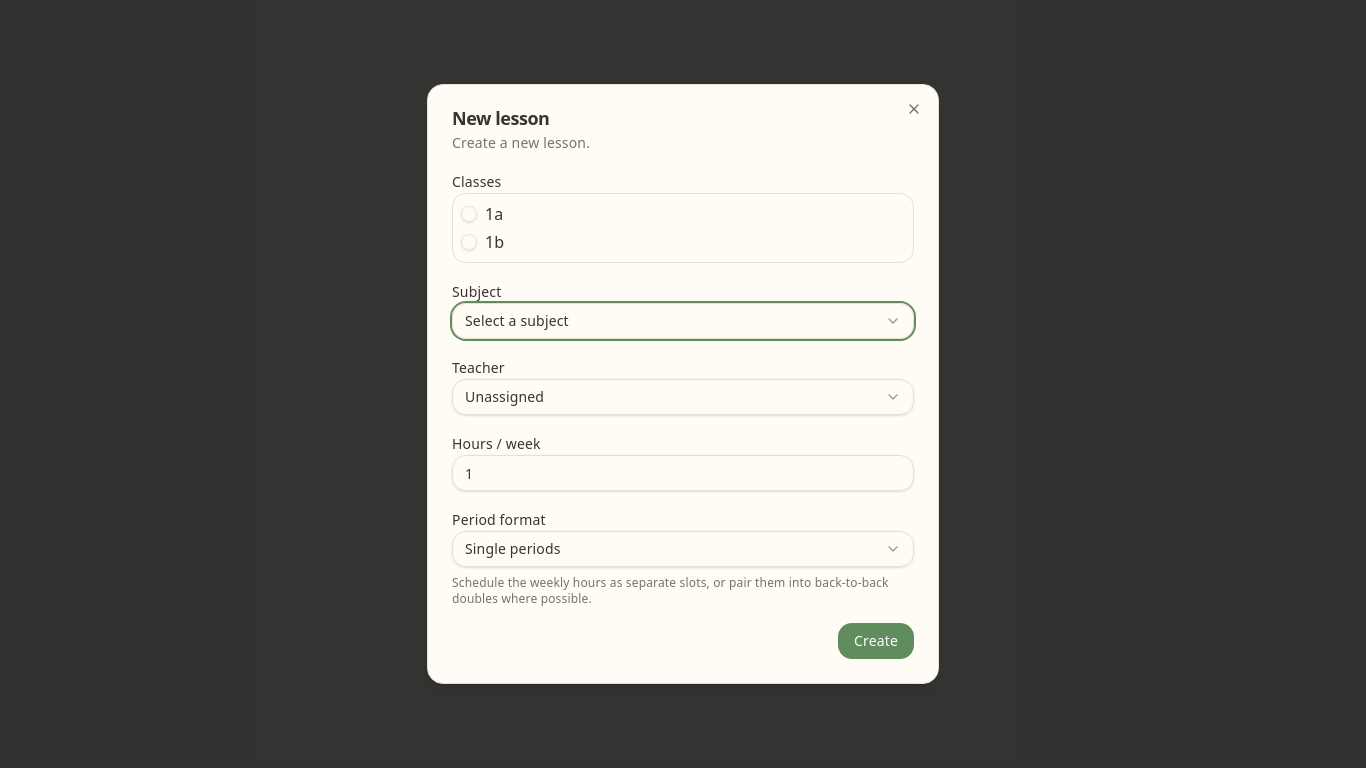
Test: LessonFormDialog multi-class selection › rejects submit when no class selected
The width and height of the screenshot is (1366, 768).
Check: the checkbox named "1a" is shown, box x1=461 y1=206 x2=477 y2=222
Click the button "Create": click(876, 641) x1=838 y1=623 x2=914 y2=659
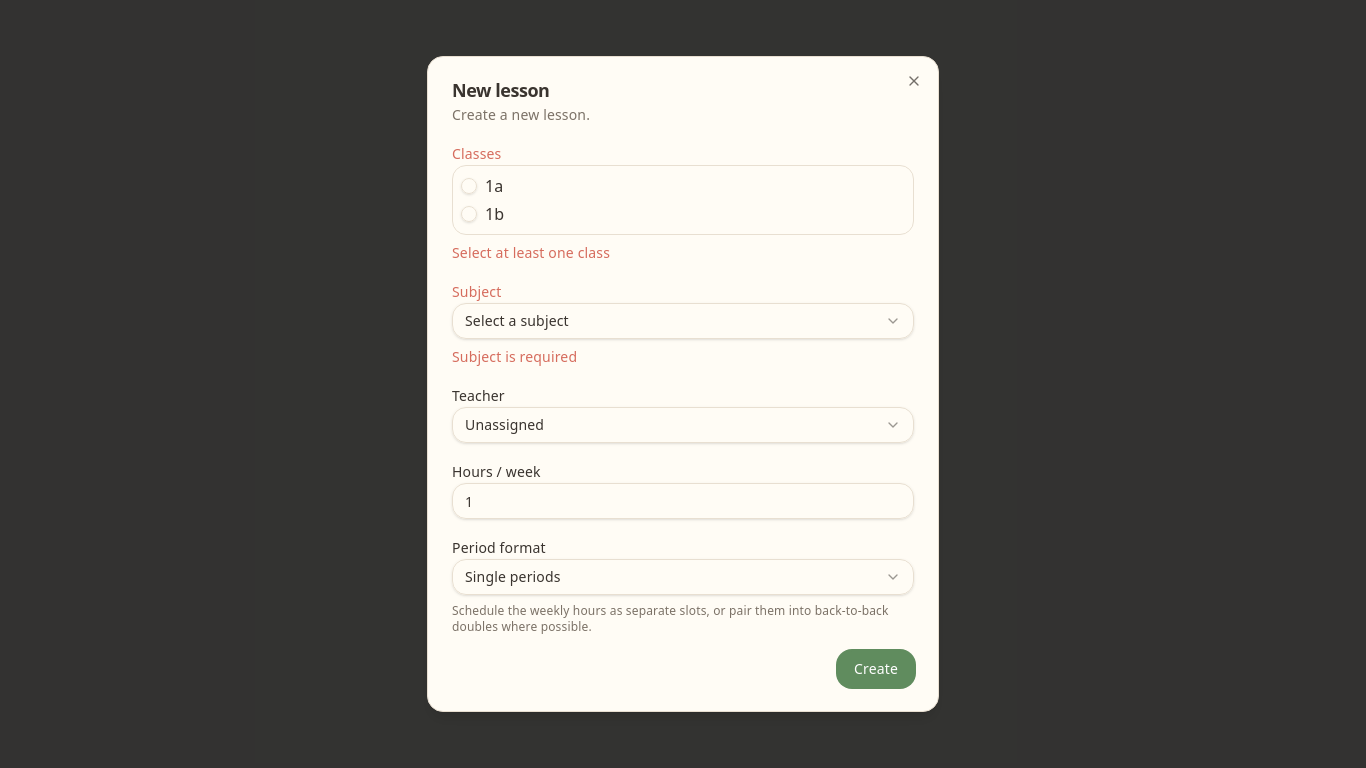
Check: the text "Select at least one class" is shown, box x1=452 y1=243 x2=610 y2=262
